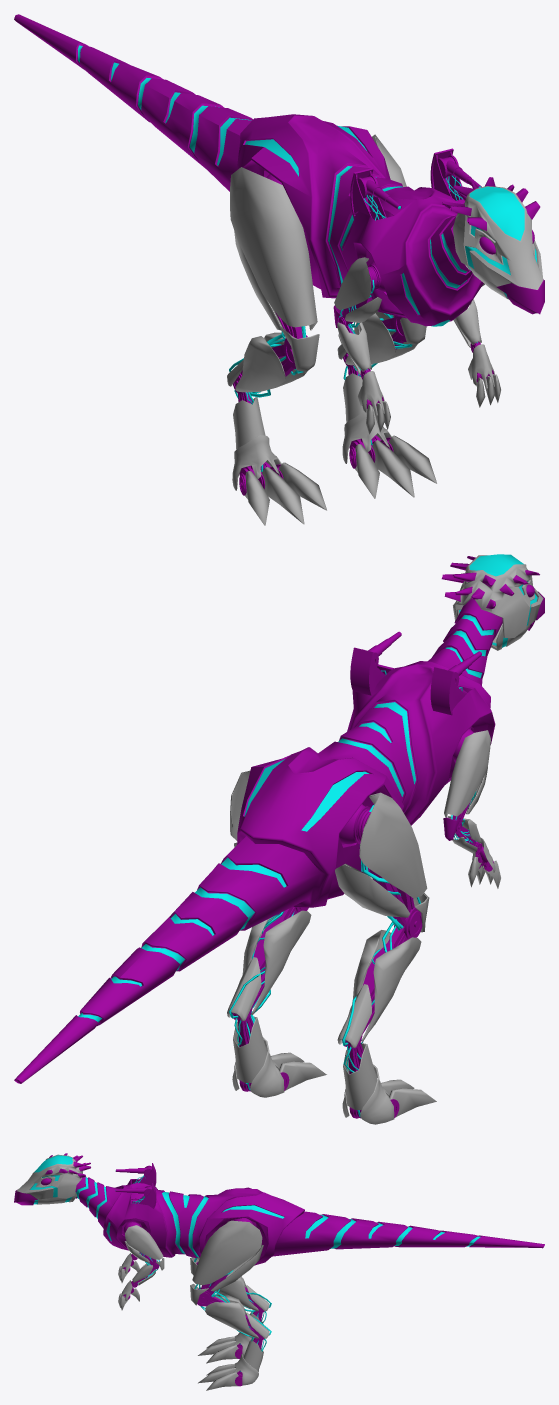
Rendered from PachyFinal_PainterExport.fbx.
3 views of the same model, one above another, from view 1: azimuth 30°, elevation 25°; view 2: azimuth 150°, elevation 25°; view 3: azimuth 270°, elevation 25° (orthographic). The views are drawn at different scales.
Visible parts, largest first — view 1: BodyGeo2, LThigh_FrontPlate14, Skull3, LShin_FrontPlate4, LShin_FrontPlate3, pCube43, LThigh_FrontPlate12, pCube44, pCube40, pCube28, pCube31, LForearm_TopPlate5 (+12 smaller); view 2: BodyGeo2, Skull3, LThigh_FrontPlate14, LShin_FrontPlate4, LShin_FrontPlate3, LThigh_FrontPlate12, LThigh_BackPlate9, pCube32, pCube44, LSHoulderHatch1, LSHoulderHatch2, pCube43 (+6 smaller); view 3: BodyGeo2, LThigh_FrontPlate15, Skull3, LShin_FrontPlate3, LThigh_FrontPlate10, LThigh_BackPlate10, LShin_FrontPlate4, pCube31, pCube32, Jaw2, pCube27, pCube41.
Part boxes in pixels (box(x1,y1,x2,y2)): BodyGeo2: box(14, 14, 483, 326); LThigh_FrontPlate14: box(230, 167, 317, 330); Skull3: box(441, 177, 544, 314); LShin_FrontPlate4: box(235, 332, 307, 392); LShin_FrontPlate3: box(345, 311, 417, 365); pCube43: box(232, 435, 281, 490); LThigh_FrontPlate12: box(334, 257, 371, 309); pCube44: box(233, 397, 265, 449); pCube40: box(372, 440, 414, 497); pCube28: box(262, 467, 304, 524); pCube31: box(342, 408, 391, 463); LForearm_TopPlate5: box(337, 322, 371, 371); BodyGeo2: box(14, 598, 502, 1083); Skull3: box(441, 554, 544, 637); LThigh_FrontPlate14: box(359, 792, 427, 898); LShin_FrontPlate4: box(353, 930, 421, 1041); LShin_FrontPlate3: box(242, 910, 311, 1014); LThigh_FrontPlate12: box(444, 730, 490, 817); LThigh_BackPlate9: box(335, 863, 409, 917); pCube32: box(233, 1016, 267, 1082); pCube44: box(343, 1043, 377, 1109); LSHoulderHatch1: box(350, 647, 385, 695); LSHoulderHatch2: box(430, 667, 465, 715); pCube43: box(342, 1064, 394, 1124); BodyGeo2: box(75, 1177, 544, 1265); LThigh_FrontPlate15: box(192, 1220, 262, 1285); Skull3: box(14, 1153, 90, 1202); LShin_FrontPlate3: box(205, 1294, 258, 1338); LThigh_FrontPlate10: box(125, 1225, 163, 1259); LThigh_BackPlate10: box(211, 1245, 263, 1291); LShin_FrontPlate4: box(216, 1276, 258, 1311); pCube31: box(233, 1354, 258, 1385); pCube32: box(243, 1338, 263, 1370); Jaw2: box(16, 1191, 76, 1205); pCube27: box(206, 1345, 238, 1363); pCube41: box(206, 1372, 238, 1390).
Size of the model in its own units: 3.45 by 7.66 by 17.33.
